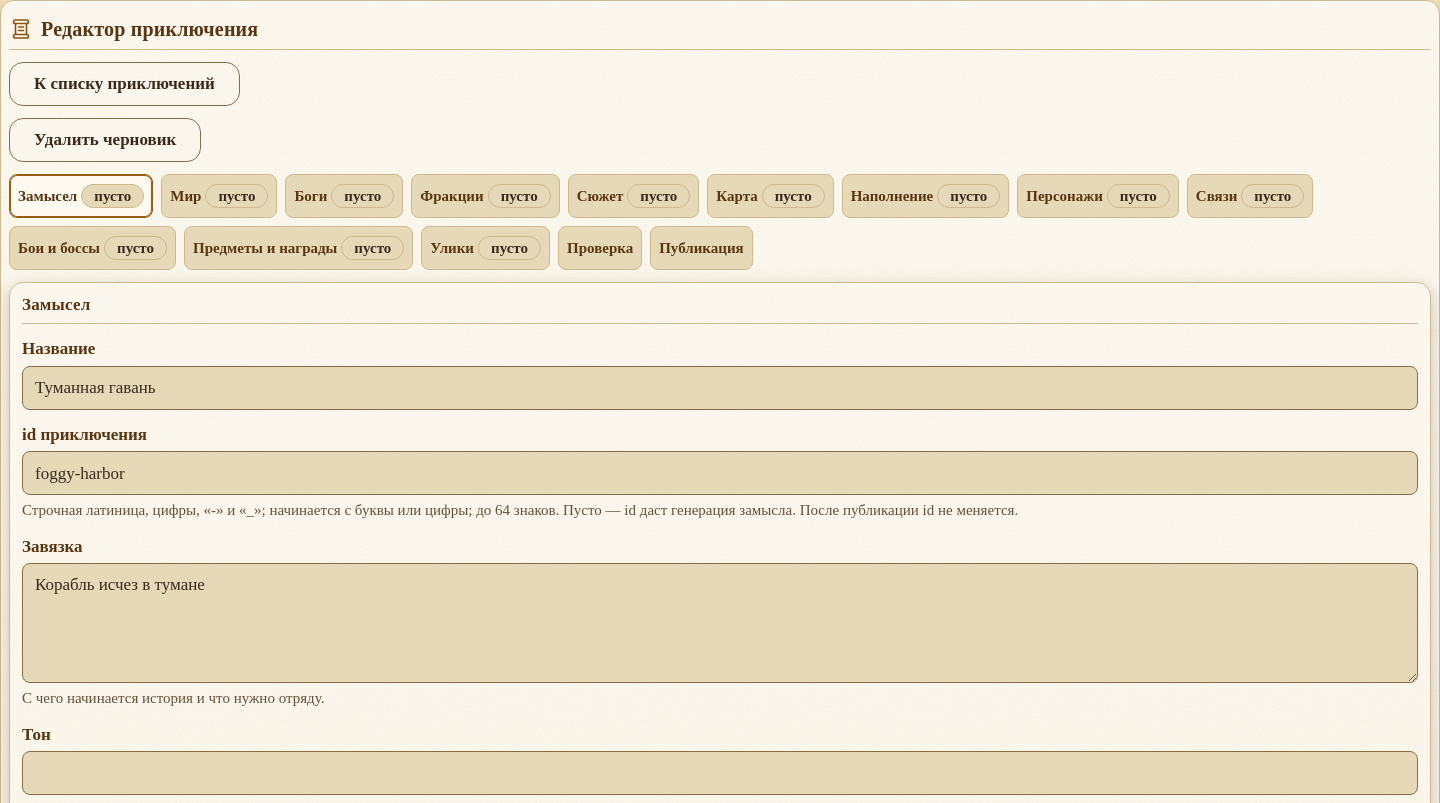
Test: экран «Публикация» › предупреждения проверки публикацию не закрывают
The image size is (1440, 803).
Click the button "Публикация" at (701, 248), box [650,226,753,270]
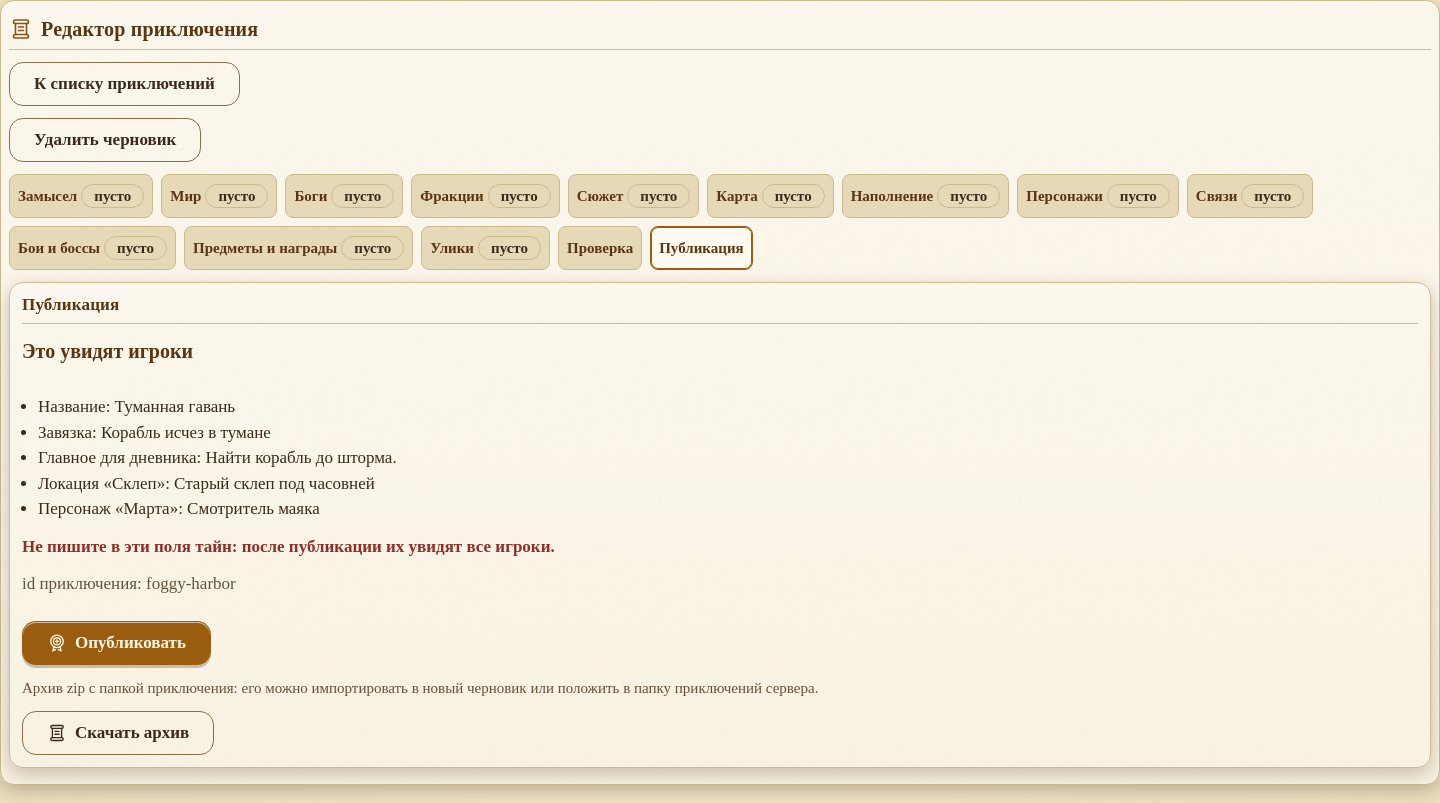
Expected: the button "Опубликовать" is enabled, [22,621,211,665]
